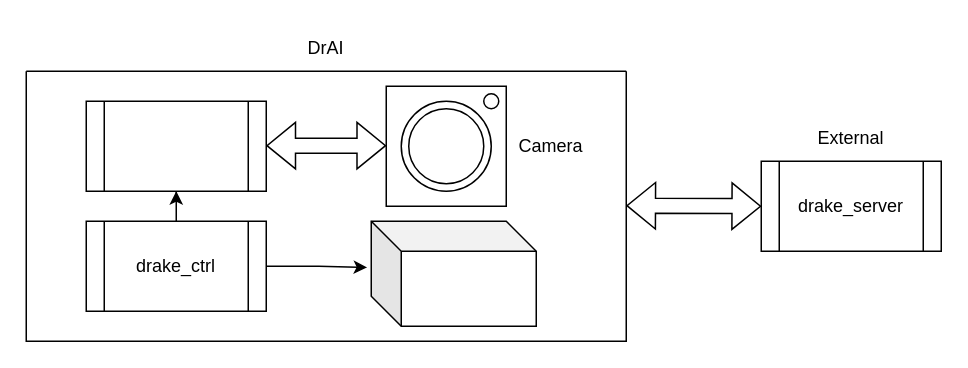
Image size: 968x368. Some labels were removed from this diagram. The box of each missing label's shape, as (x1, y1, x2, y2) in pixels:
drake_camera: (85, 100, 266, 191)
robot: (370, 220, 536, 326)
